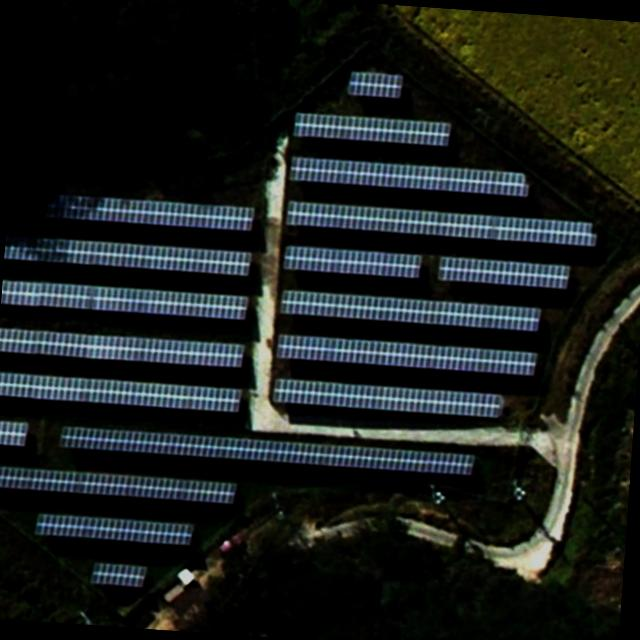solar: (58, 422, 480, 479), (284, 200, 600, 250), (276, 331, 540, 378), (277, 288, 544, 334), (0, 278, 252, 322), (0, 369, 243, 414), (0, 326, 247, 370), (3, 234, 255, 277), (286, 154, 530, 198), (270, 375, 508, 420), (0, 462, 239, 504), (44, 192, 256, 234), (33, 508, 197, 548), (290, 108, 454, 148), (436, 253, 572, 292), (280, 245, 423, 282), (89, 558, 149, 590), (346, 68, 406, 100), (0, 418, 31, 450)
